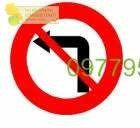No_turn_left: (8, 2, 125, 116)
